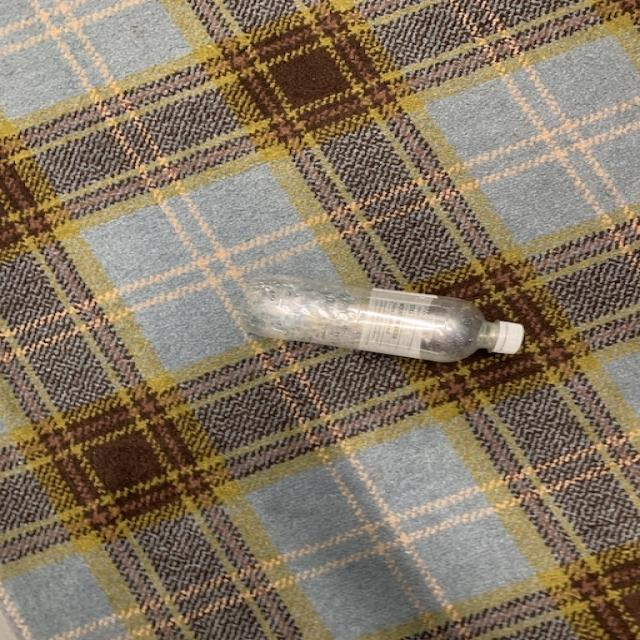Waste: (239, 275, 525, 363)
